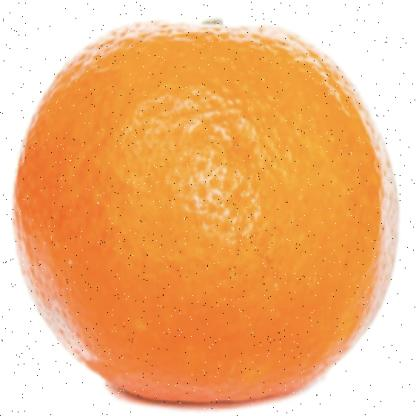fresh: (12, 22, 398, 403)
